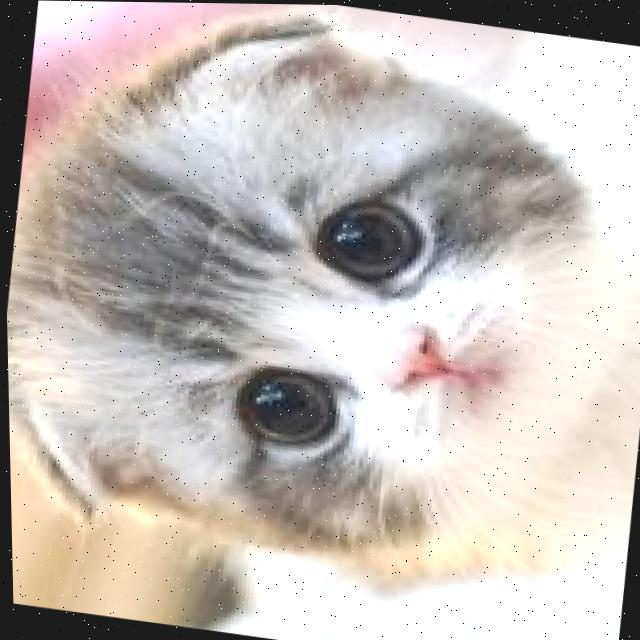Scottish Fold: (0, 0, 640, 629)
